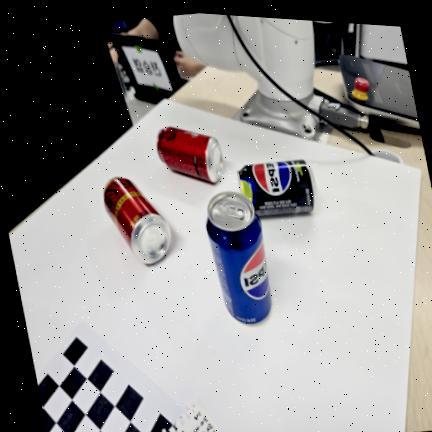can_coke_decaf: (104, 177, 171, 264)
can_coke_zero: (157, 127, 223, 183)
can_pepsi: (206, 191, 272, 325)
can_pepsi_zero: (237, 159, 315, 216)
